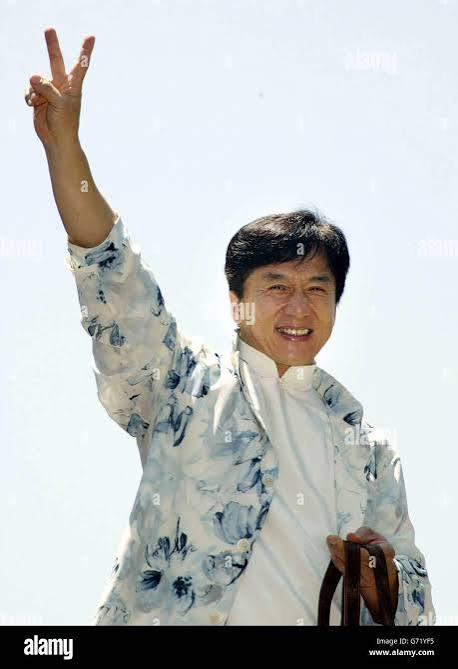peace_sign: (16, 22, 102, 150)
